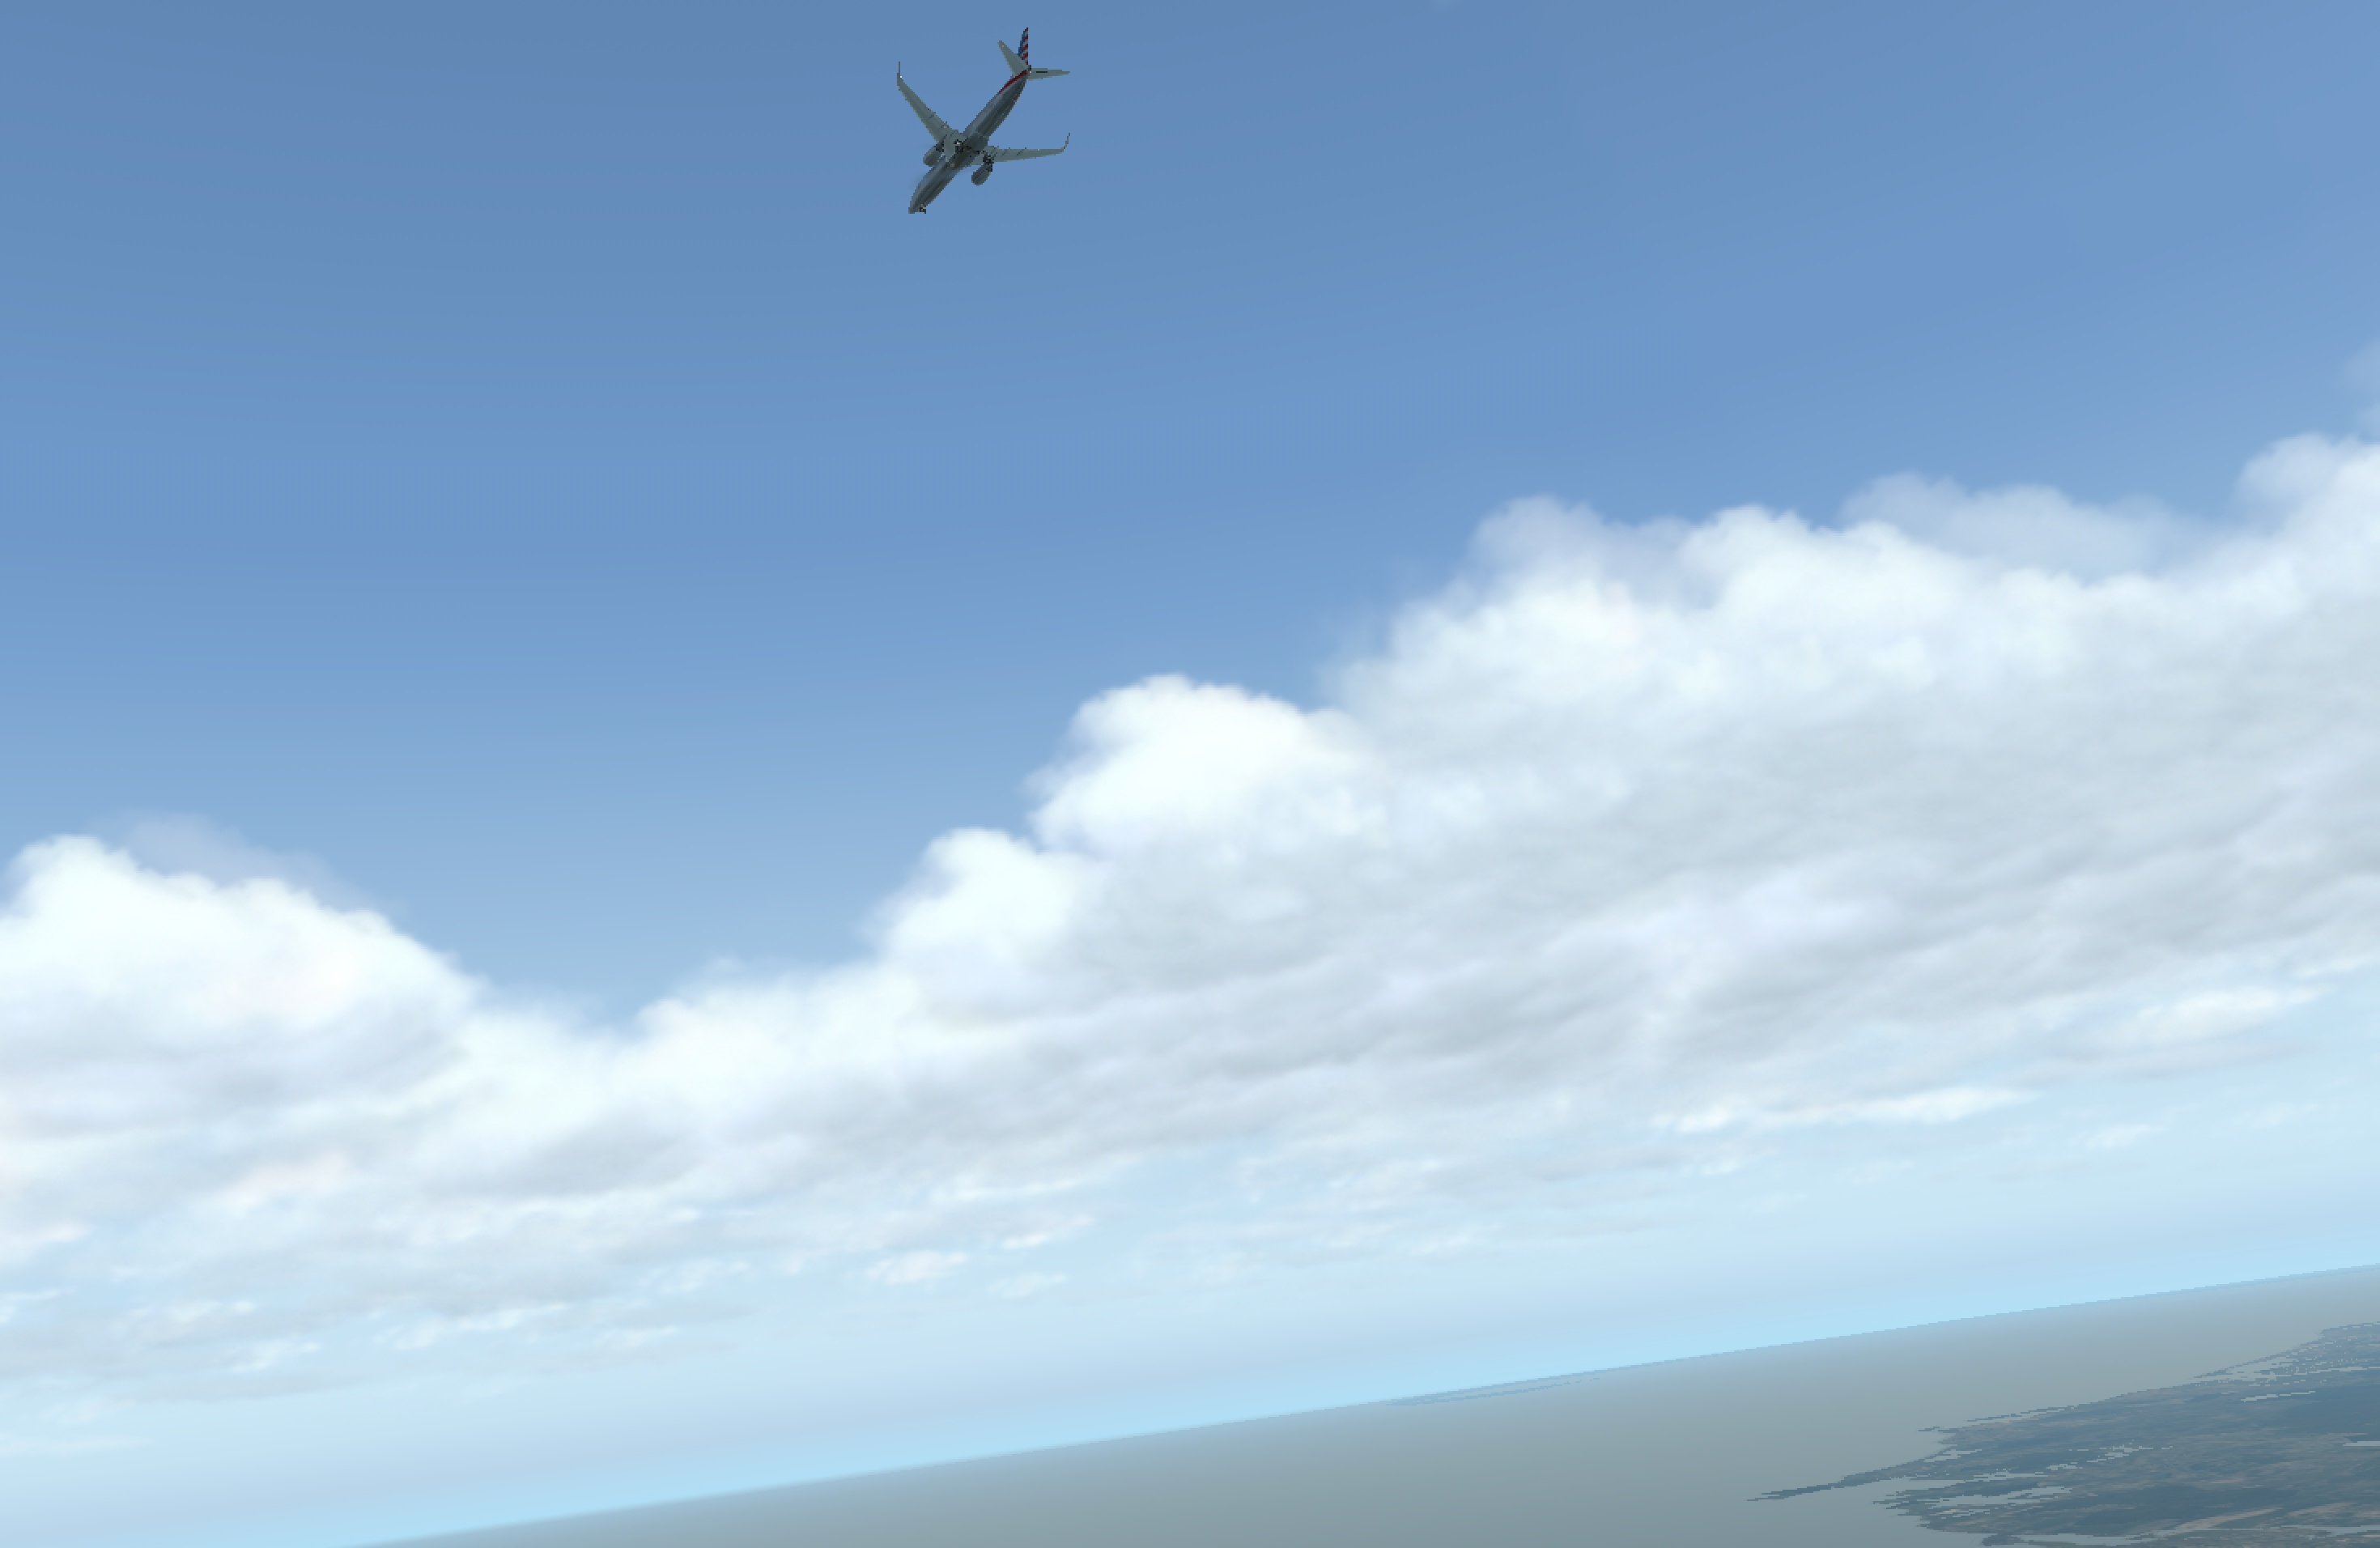aircraft: (857, 108, 1076, 191)
